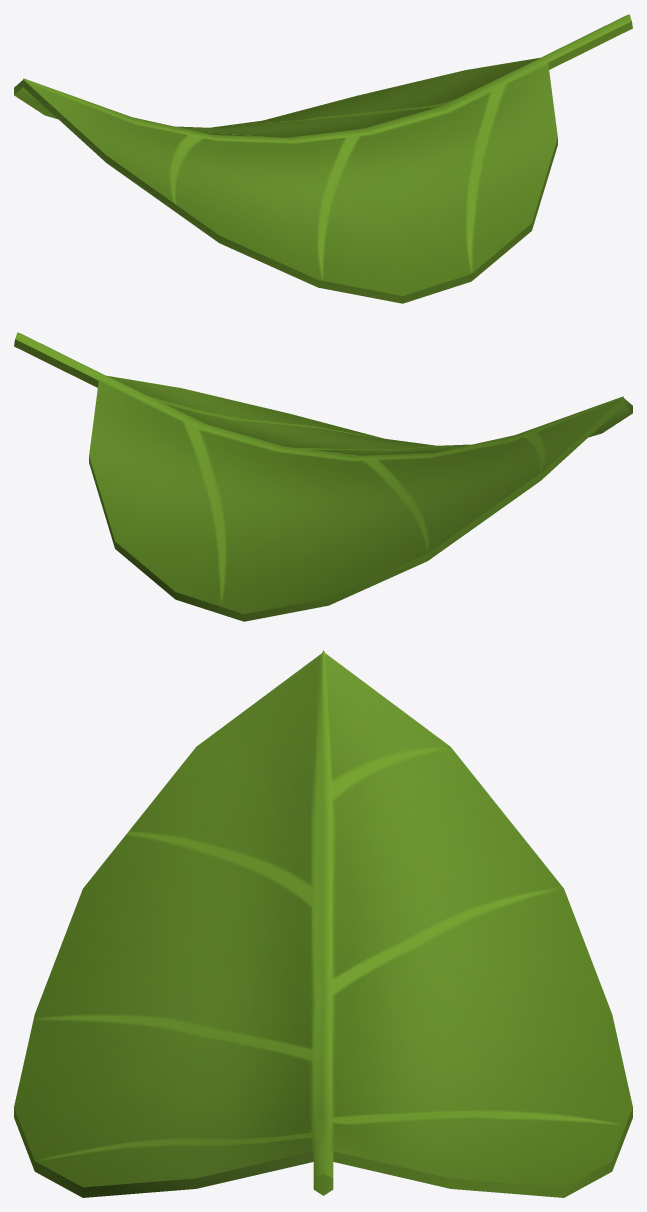
The model's file is leaf.FBX.
3 views of the same model, one above another, from view 1: azimuth 30°, elevation 25°; view 2: azimuth 150°, elevation 25°; view 3: azimuth 270°, elevation 25° (orthographic). The views are drawn at different scales.
Parts seen in each view (by area): view 1: leaf; view 2: leaf; view 3: leaf.
Boxes of the visible parts, <box> form: leaf: <box>14,14,632,303</box>; leaf: <box>14,332,632,621</box>; leaf: <box>14,650,632,1197</box>.
Size of the model in its own units: 50.05 by 16.58 by 32.03.
